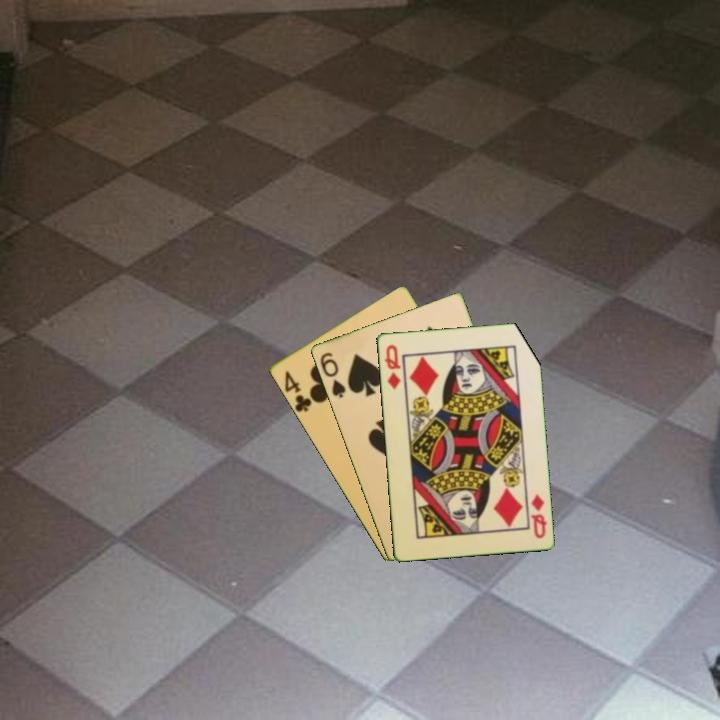4c: (280, 367, 314, 415)
6s: (316, 348, 348, 401)
Qd: (380, 341, 403, 392), (527, 491, 549, 541)
